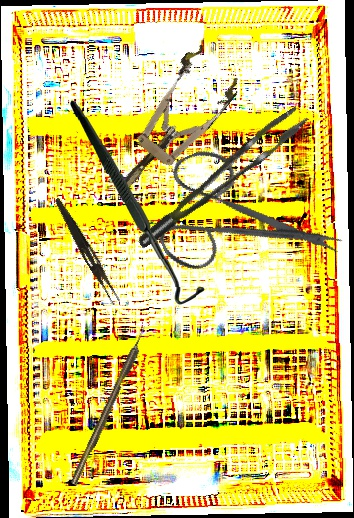Dressing Forceps: (49, 196, 124, 306)
Hook Surgical: (68, 95, 207, 309), (68, 325, 151, 486)
Iris Scissors: (133, 112, 347, 316)
Speculum: (99, 40, 248, 205)
Tissue Forceps: (121, 104, 321, 249)
